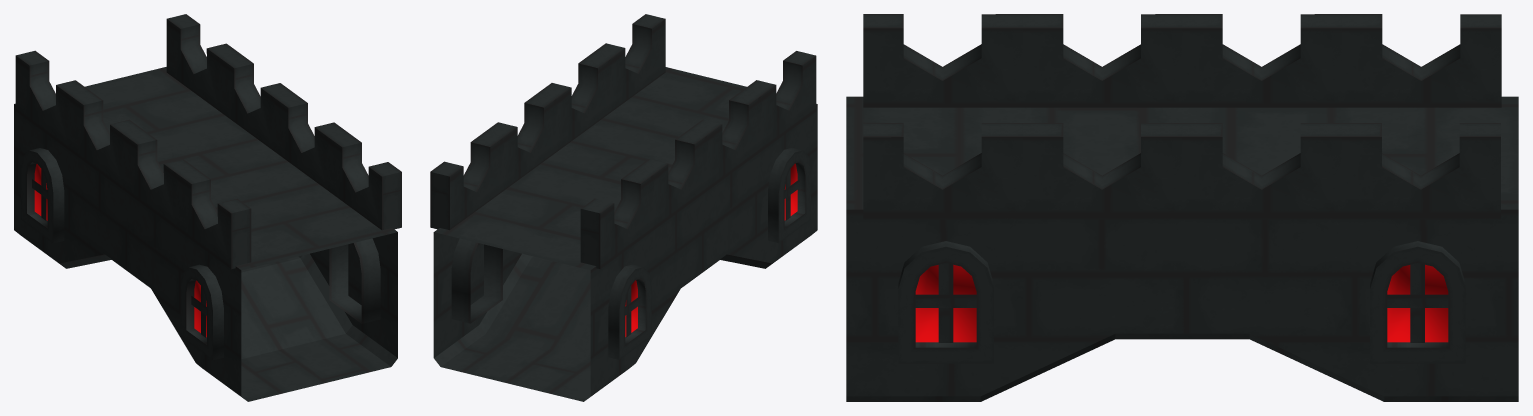
The model's file is Coast Spire Bridge.fbx.
3 views of the same model, side by side, from view 1: azimuth 30°, elevation 25°; view 2: azimuth 150°, elevation 25°; view 3: azimuth 270°, elevation 25° (orthographic). The views are drawn at different scales.
Parts seen in each view (by area): view 1: Spire Bridge; view 2: Spire Bridge; view 3: Spire Bridge.
Part boxes in pixels (<box>): Spire Bridge: <box>14,14,401,401</box>; Spire Bridge: <box>430,14,817,401</box>; Spire Bridge: <box>846,14,1518,401</box>.
Bounding box in the file's own units: 1679 × 1693 × 3729.
